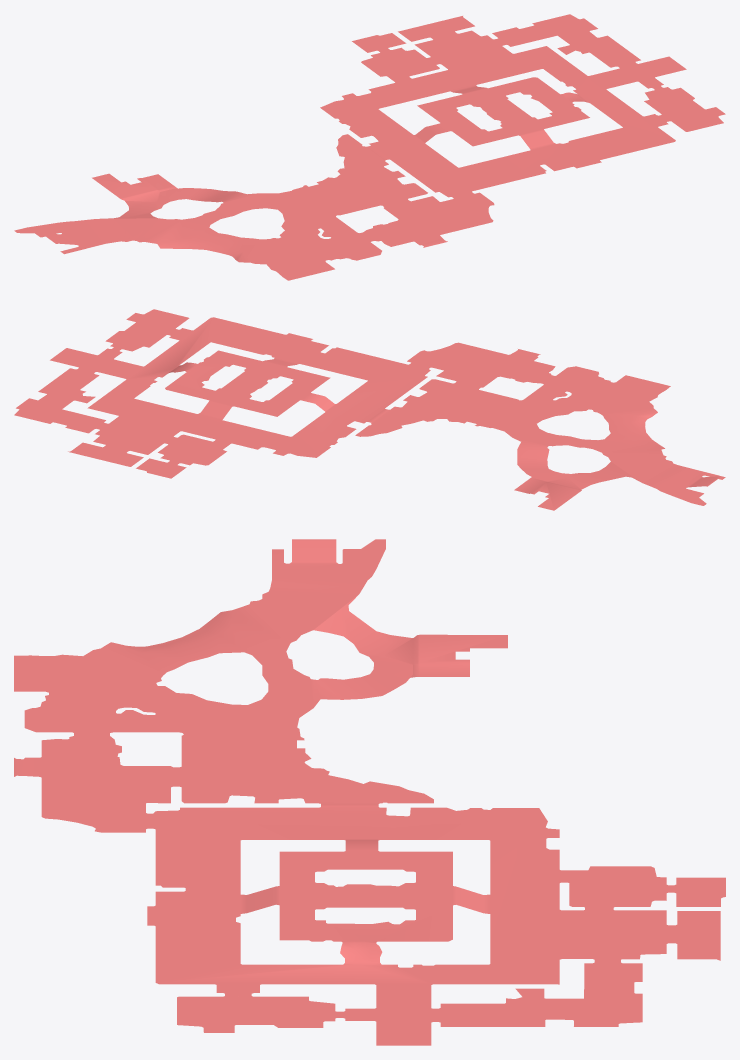
The model's file is NavMesh.fbx.
3 renders of one model, top to bottom at view 1: azimuth 30°, elevation 25°; view 2: azimuth 150°, elevation 25°; view 3: azimuth 270°, elevation 25°, orthographic. The views are drawn at different scales.
Visible parts, largest first — view 1: Cemetery; view 2: Cemetery; view 3: Cemetery.
Part boxes in pixels (x1,y1,x2,y2): Cemetery: (14,14,725,280); Cemetery: (14,309,725,510); Cemetery: (14,539,725,1045).
Bounding box in the file's own units: 9988 × 168 × 5935.
